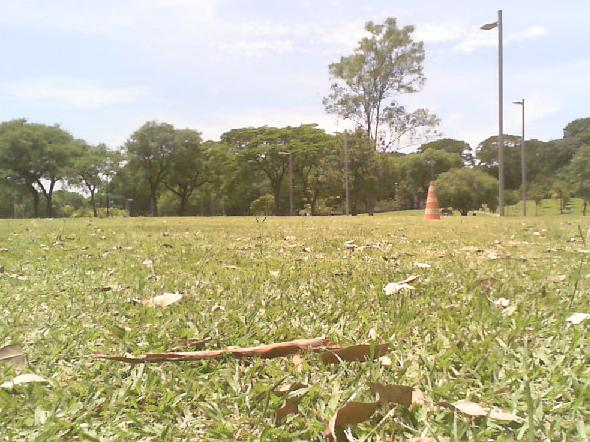0 cone: (423, 179, 442, 220)
